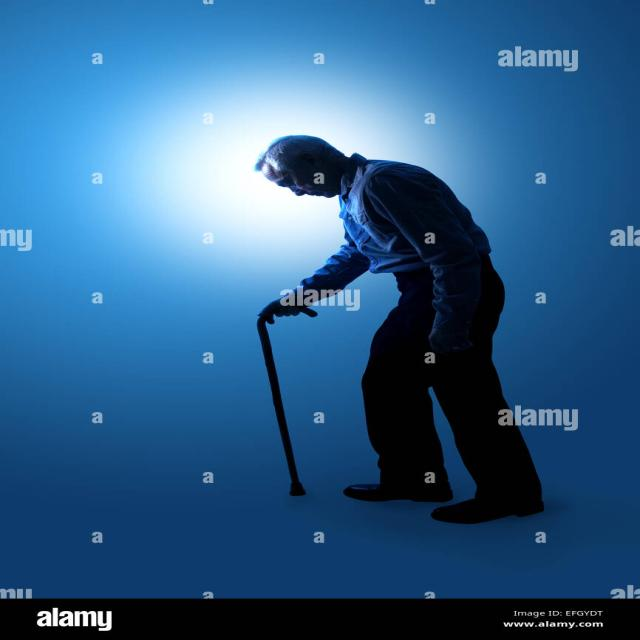idoso em pe: (240, 125, 572, 542)
